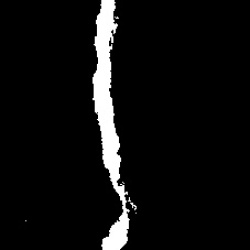crack: (89, 2, 137, 247)
